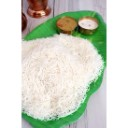idiyappam: (20, 39, 103, 120)
